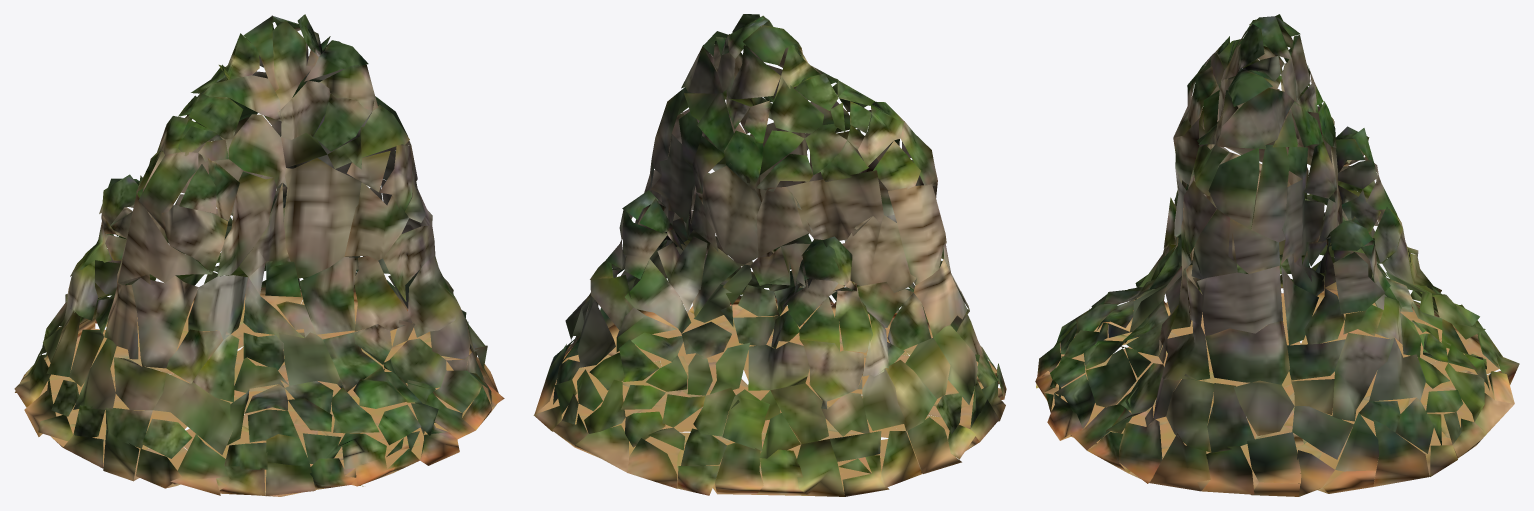
Rendered from Majestic_Rock_Formati_town.glb.
3 renders of one model, left to right at view 1: azimuth 30°, elevation 25°; view 2: azimuth 150°, elevation 25°; view 3: azimuth 270°, elevation 25°, orthographic. The views are drawn at different scales.
Parts seen in each view (by area): view 1: Majestic_Rock_Formati; view 2: Majestic_Rock_Formati; view 3: Majestic_Rock_Formati.
Boxes of the visible parts, left/top/right/bottom form: Majestic_Rock_Formati: left=14, top=14, right=504, bottom=496; Majestic_Rock_Formati: left=533, top=14, right=1006, bottom=496; Majestic_Rock_Formati: left=1035, top=14, right=1519, bottom=496.
Size of the model in its own units: 1.9 by 1.67 by 1.9.
Materials: 1 (1 with a texture image).
